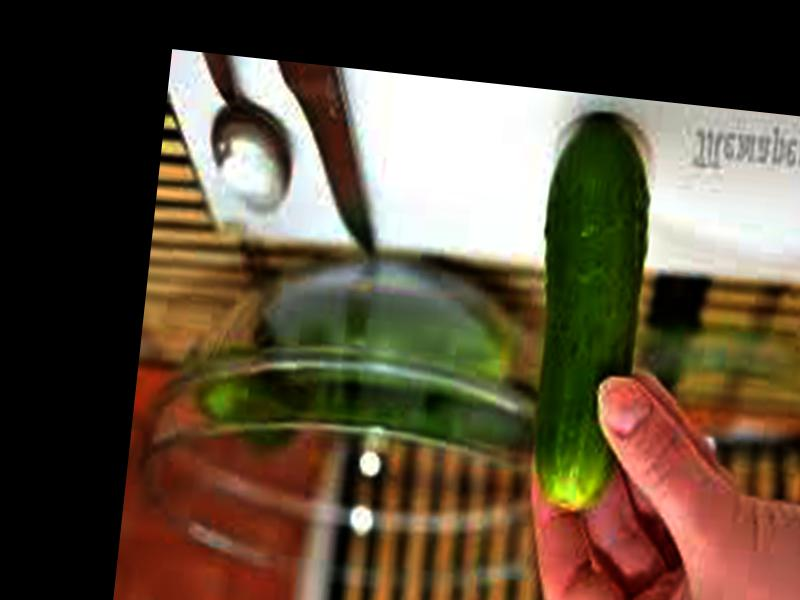Cucumber: (516, 113, 658, 515)
